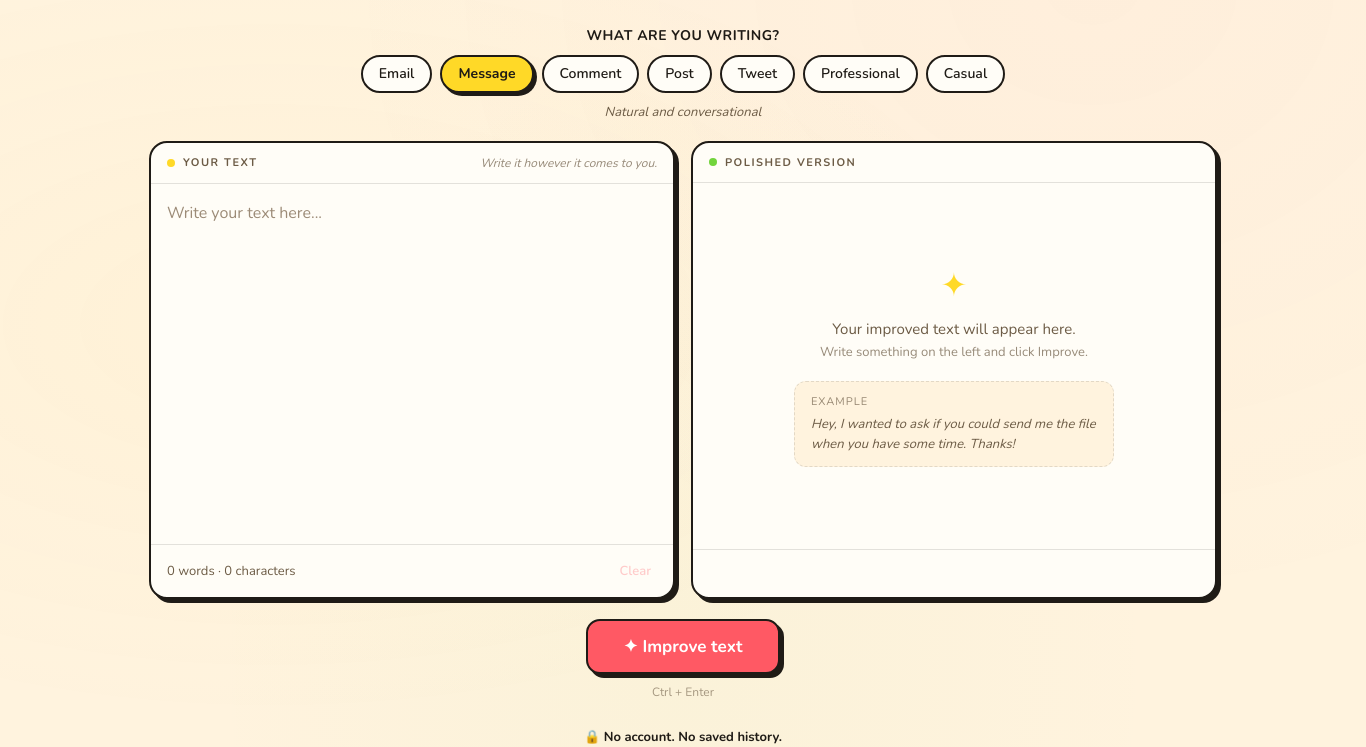
it: Page Component › updates word and character counts
(page scrolled)
In the text box with placeholder "Write your text here...": (412, 364) [151, 184, 673, 544], type "hello world"
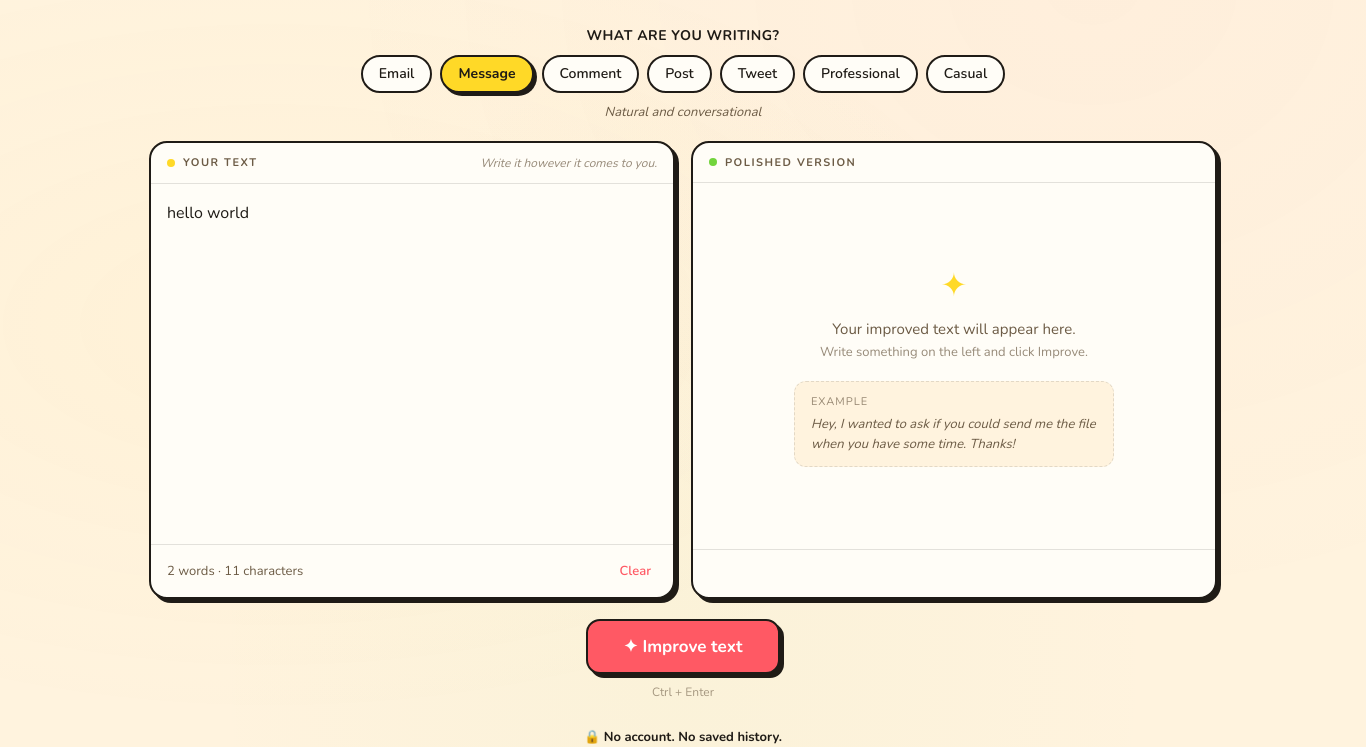
Expected: the text "2 words · 11 characters" is shown, [167, 562, 303, 580]
